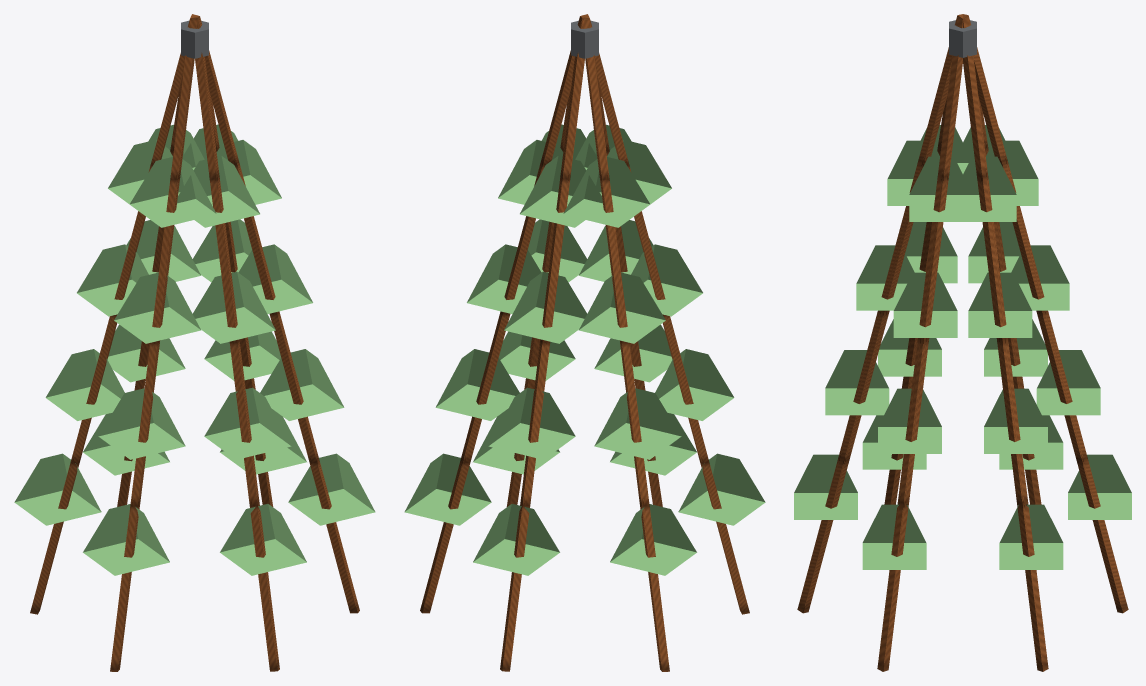
The model's file is allotments-and-community-garden-cane-wigwam-with-beans-90860225__35135.glb.
The picture shows the model from 3 angles, left to right: view 1: azimuth 30°, elevation 25°; view 2: azimuth 150°, elevation 25°; view 3: azimuth 270°, elevation 25°; orthographic projection.
Parts seen in each view (by area): view 1: cane-wigwam-with-beans-leaf, cane-wigwam-with-beans-timber, cane-wigwam-with-beans-charcoal; view 2: cane-wigwam-with-beans-leaf, cane-wigwam-with-beans-timber, cane-wigwam-with-beans-charcoal; view 3: cane-wigwam-with-beans-leaf, cane-wigwam-with-beans-timber, cane-wigwam-with-beans-charcoal.
Part boxes in pixels (x1,y1,x2,y2): cane-wigwam-with-beans-leaf: [14, 124, 375, 575]; cane-wigwam-with-beans-timber: [30, 14, 359, 671]; cane-wigwam-with-beans-charcoal: [181, 20, 208, 58]; cane-wigwam-with-beans-leaf: [404, 124, 765, 575]; cane-wigwam-with-beans-timber: [420, 14, 749, 671]; cane-wigwam-with-beans-charcoal: [571, 20, 598, 58]; cane-wigwam-with-beans-leaf: [794, 125, 1131, 569]; cane-wigwam-with-beans-timber: [797, 14, 1128, 671]; cane-wigwam-with-beans-charcoal: [949, 20, 976, 57].
Bounding box in the file's own units: 0.941 × 2.06 × 1.06.
Materials: 3 (1 with a texture image).
